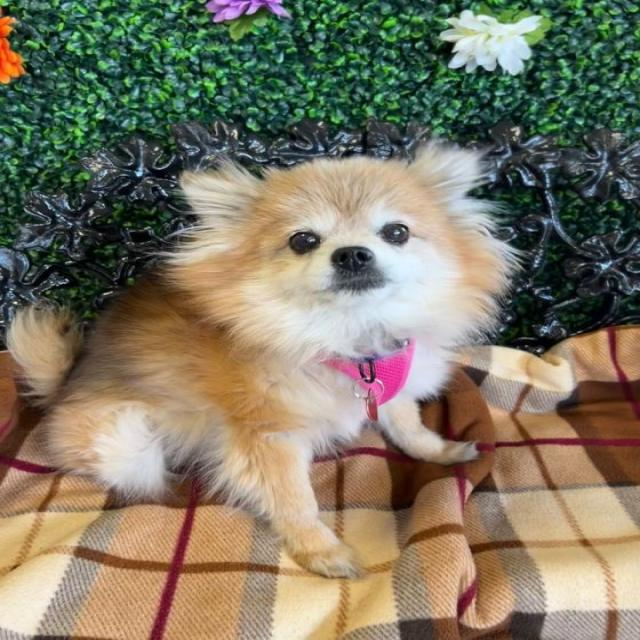pomeranian_dog: (165, 124, 520, 357)
